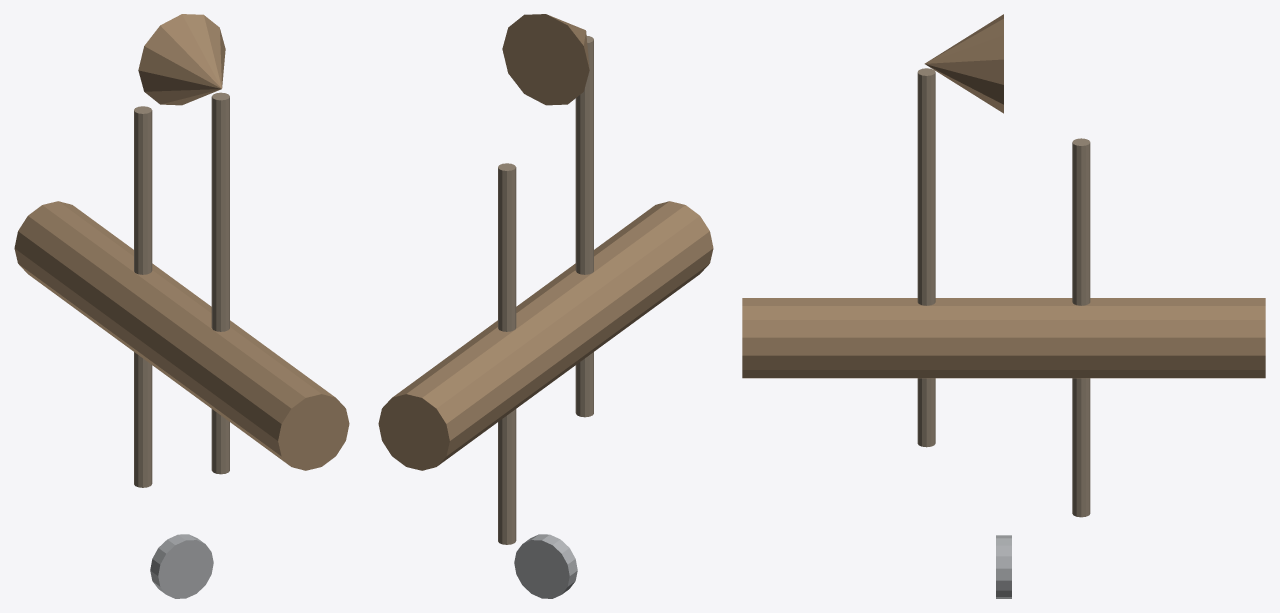
File: rope_post.glb
3 renders of one model, left to right at view 1: azimuth 30°, elevation 25°; view 2: azimuth 150°, elevation 25°; view 3: azimuth 270°, elevation 25°, orthographic.
Parts seen in each view (by area): view 1: world; view 2: world; view 3: world.
Boxes of the visible parts, x1,y1,x2,y2 form: world: [14, 14, 349, 598]; world: [378, 14, 713, 598]; world: [742, 14, 1265, 598].
Size of the model in its own units: 0.44 by 2.8 by 2.3.
